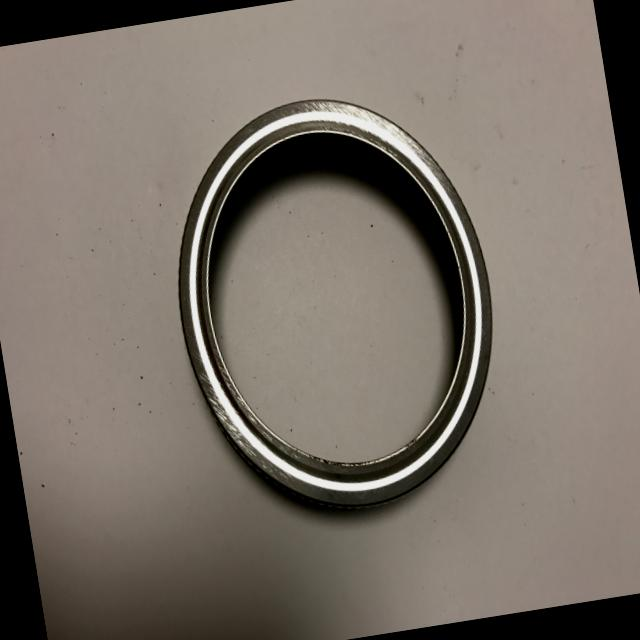Metal: (140, 48, 534, 538)
